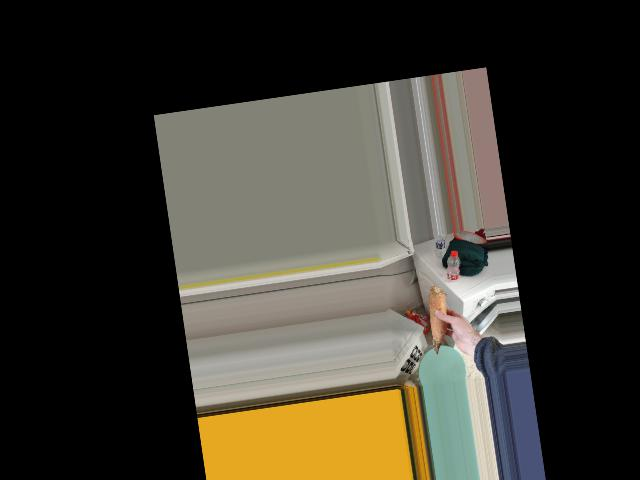sweet_potato: (426, 285, 453, 351)
